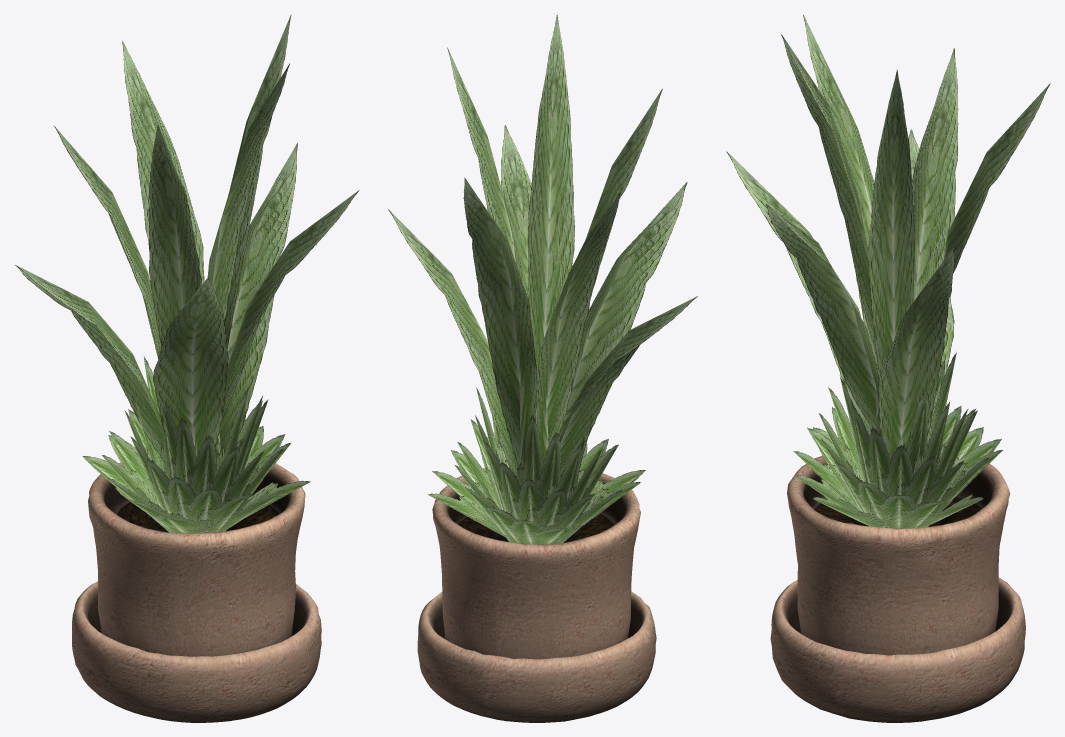
Rendered from Planta interior.obj.
3 views of the same model, side by side, from view 1: azimuth 30°, elevation 25°; view 2: azimuth 150°, elevation 25°; view 3: azimuth 270°, elevation 25° (orthographic). The views are drawn at different scales.
Visible parts, largest first — view 1: Low_Poly_Plant__001_Cube_000, Low_Poly_Plant__Cube_055; view 2: Low_Poly_Plant__001_Cube_000, Low_Poly_Plant__Cube_055; view 3: Low_Poly_Plant__001_Cube_000, Low_Poly_Plant__Cube_055.
Part boxes in pixels (x1,y1,x2,y2): Low_Poly_Plant__001_Cube_000: (15, 14, 359, 533); Low_Poly_Plant__Cube_055: (72, 462, 321, 722); Low_Poly_Plant__001_Cube_000: (388, 14, 697, 544); Low_Poly_Plant__Cube_055: (417, 468, 656, 722); Low_Poly_Plant__001_Cube_000: (726, 15, 1050, 528); Low_Poly_Plant__Cube_055: (770, 455, 1025, 722).
Bounding box in the file's own units: 0.6533 × 1.35 × 0.5929.
3 materials, 3 textured.
